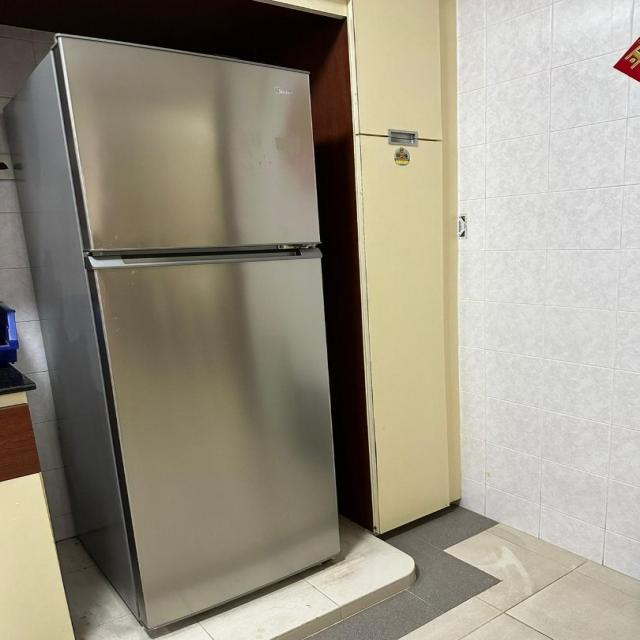refrigerator: (49, 31, 345, 634)
